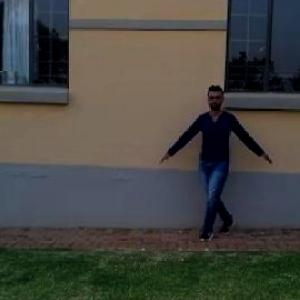land: (167, 88, 272, 249)
